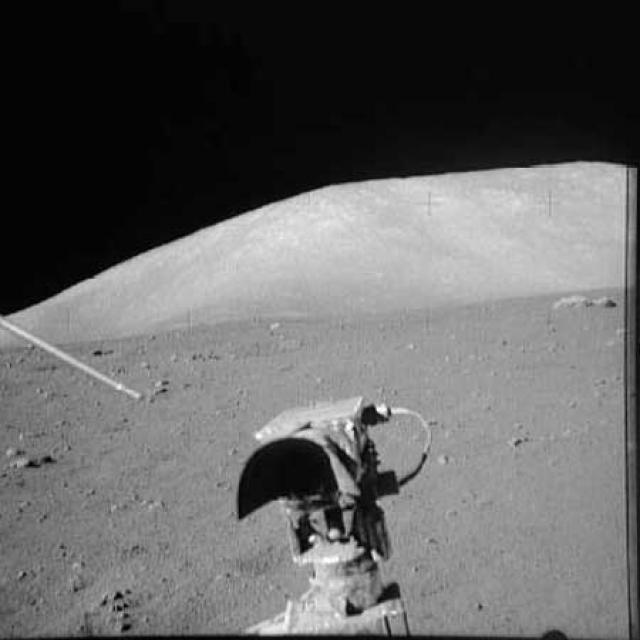artifact: (223, 391, 447, 639), (2, 316, 145, 411)
crater: (193, 330, 307, 359)
rock: (546, 286, 623, 317)
